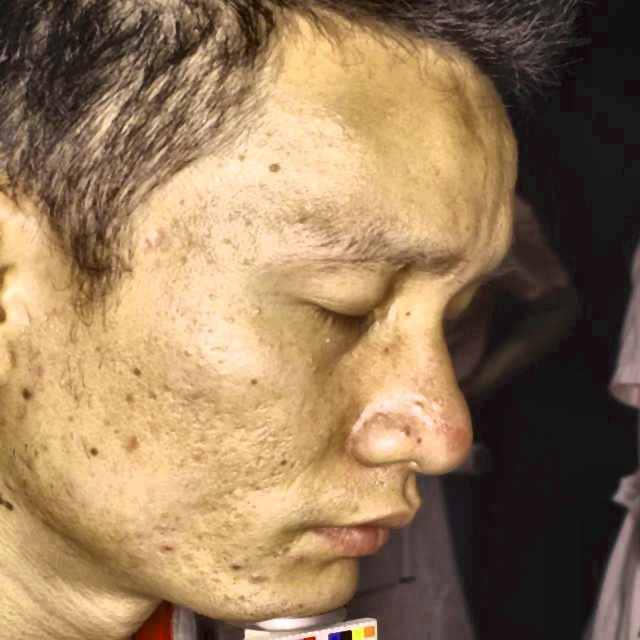comedone: (246, 563, 289, 593), (112, 431, 152, 462), (161, 530, 197, 563)
